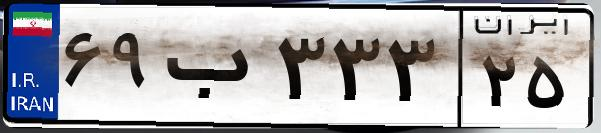2: (475, 38, 525, 113)
3: (270, 28, 330, 110), (385, 28, 445, 110), (330, 28, 385, 110)
5: (525, 38, 570, 115)
6: (57, 26, 110, 100)
9: (110, 28, 158, 98)
ب: (158, 20, 270, 120)
